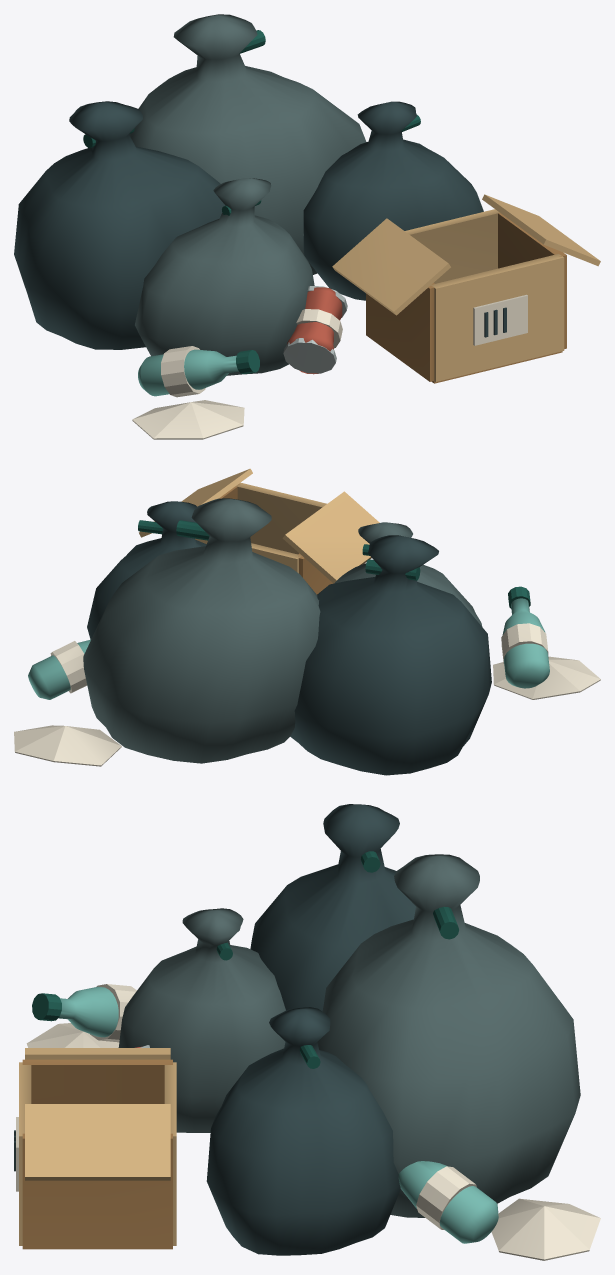
Rendered from waste-pile.glb.
3 renders of one model, top to bottom at view 1: azimuth 30°, elevation 25°; view 2: azimuth 150°, elevation 25°; view 3: azimuth 270°, elevation 25°, orthographic. The views are drawn at different scales.
Parts seen in each view (by area): view 1: creased tied refuse sack, pinched sack fold, carton end, carton shipping label, open carton bottom, discarded bottle, crumpled drink can, aluminium can end, sack knot; view 2: pinched sack fold, creased tied refuse sack, carton end, carton shipping label, discarded bottle, sack knot, open carton bottom; view 3: pinched sack fold, creased tied refuse sack, open carton bottom, carton end, carton shipping label, discarded bottle, sack knot.
Boxes of the visible parts, x1,y1,x2,y2 form: creased tied refuse sack: [14, 101, 506, 349]; pinched sack fold: [129, 14, 366, 375]; carton end: [332, 194, 600, 381]; carton shipping label: [132, 294, 527, 439]; open carton bottom: [366, 213, 566, 383]; discarded bottle: [138, 349, 238, 396]; crumpled drink can: [287, 287, 342, 374]; aluminium can end: [283, 286, 347, 373]; sack knot: [83, 30, 420, 374]; pinched sack fold: [83, 498, 482, 763]; creased tied refuse sack: [87, 501, 491, 775]; carton end: [139, 468, 379, 583]; carton shipping label: [14, 623, 600, 766]; discarded bottle: [28, 598, 549, 699]; sack knot: [138, 520, 530, 608]; open carton bottom: [219, 484, 332, 594]; pinched sack fold: [118, 854, 580, 1217]; creased tied refuse sack: [14, 804, 415, 1255]; open carton bottom: [22, 1059, 172, 1249]; carton end: [19, 1048, 176, 1245]; carton shipping label: [16, 984, 600, 1260]; discarded bottle: [58, 986, 498, 1243]; sack knot: [32, 851, 458, 1068].
Size of the model in its own units: 1.22 by 0.6791 by 1.21.
